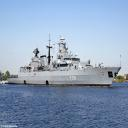Fragata: (6, 31, 124, 88)
